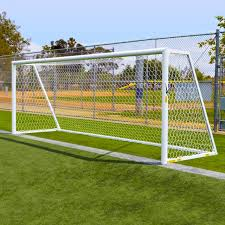goal: (11, 47, 169, 167)
